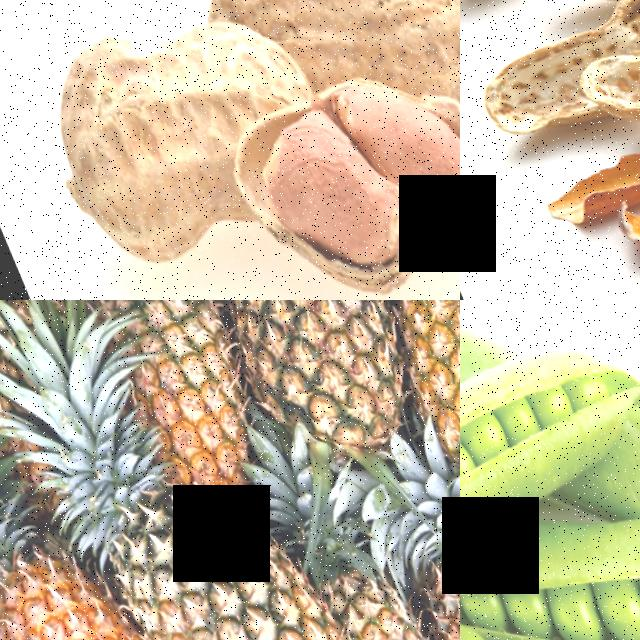peanuts: (0, 2, 254, 291), (203, 97, 409, 300), (329, 55, 460, 245), (230, 0, 460, 93)
peas: (460, 355, 622, 517), (460, 521, 640, 640)
pineapple: (68, 432, 370, 640), (63, 300, 280, 498), (171, 300, 435, 459), (326, 300, 460, 516), (0, 512, 182, 640), (284, 529, 460, 640), (377, 501, 460, 640)
